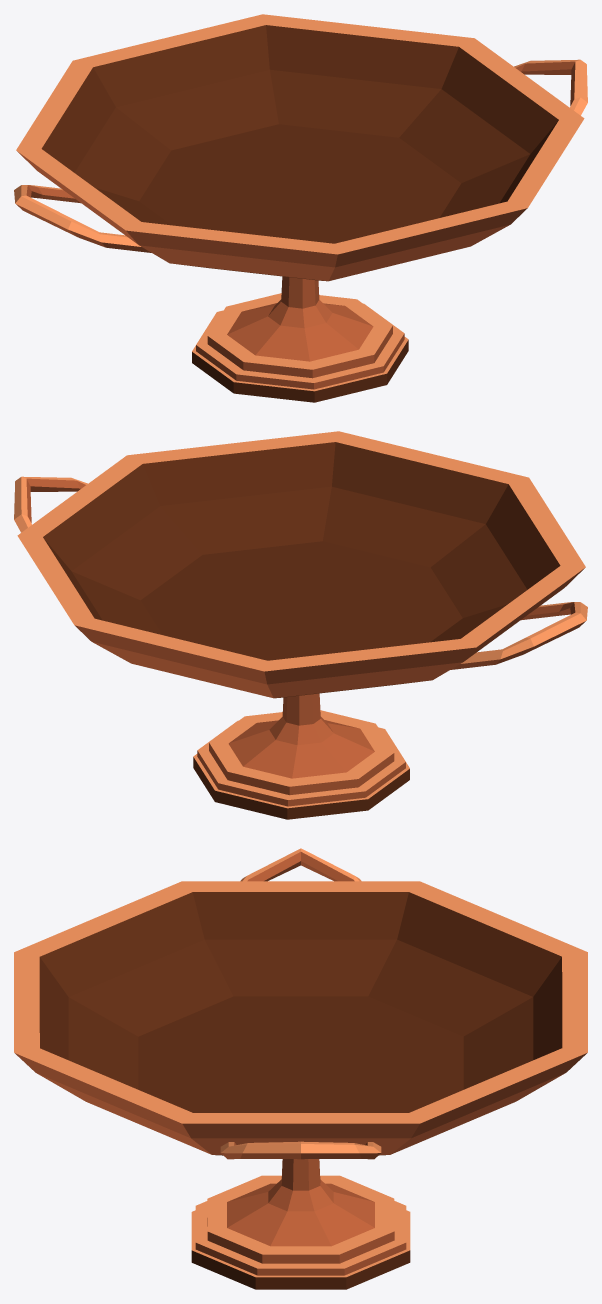
File: Vase_07.glb
3 views of the same model, one above another, from view 1: azimuth 30°, elevation 25°; view 2: azimuth 150°, elevation 25°; view 3: azimuth 270°, elevation 25° (orthographic). The views are drawn at different scales.
Parts seen in each view (by area): view 1: Vase_07; view 2: Vase_07; view 3: Vase_07.
Part boxes in pixels (x1,y1,x2,y2): Vase_07: (14, 14, 587, 402); Vase_07: (14, 431, 587, 819); Vase_07: (14, 848, 587, 1289).
Size of what is drawn, in the model's own units: 1.42 by 0.541 by 1.14.
Materials: 1 (1 with a texture image).
